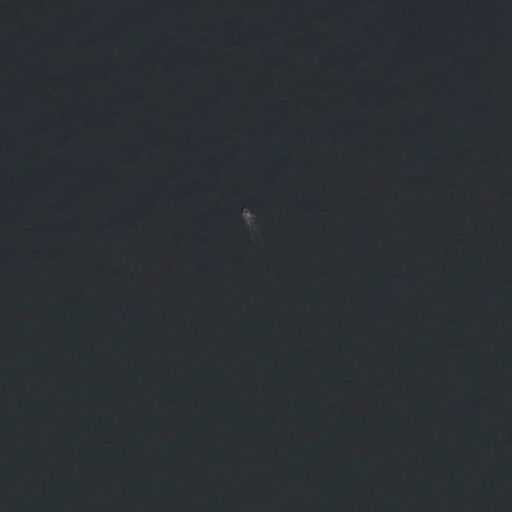ship: (238, 204, 258, 227)
